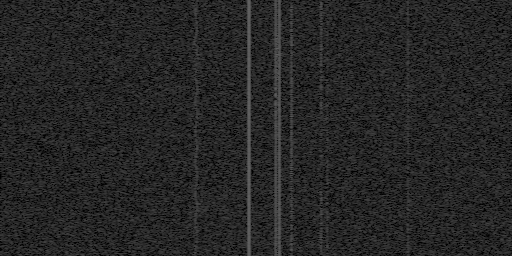wv_am: (273, 0, 279, 256), (277, 0, 282, 256), (406, 0, 410, 256)
wv_cw: (246, 0, 252, 256)
wv_lsb: (289, 3, 294, 256)
wv_usb: (319, 1, 324, 115), (319, 116, 323, 186), (275, 32, 280, 86), (325, 100, 330, 152), (319, 208, 324, 256), (325, 176, 330, 210), (275, 87, 280, 116), (325, 222, 330, 250), (325, 18, 330, 46), (325, 153, 330, 175), (319, 187, 324, 207), (325, 64, 330, 83), (275, 215, 280, 232), (325, 47, 330, 63), (275, 198, 280, 214), (275, 164, 280, 179), (275, 184, 280, 197), (325, 84, 330, 95), (325, 211, 330, 221), (275, 248, 280, 256), (275, 118, 280, 124), (275, 134, 279, 141), (325, 4, 329, 11), (275, 242, 280, 247), (275, 128, 280, 133), (275, 142, 279, 148), (325, 251, 329, 256), (275, 159, 279, 163), (276, 153, 279, 158), (326, 12, 329, 16), (276, 236, 279, 239)
wv_wbfm: (190, 62, 202, 256), (190, 0, 201, 62)
